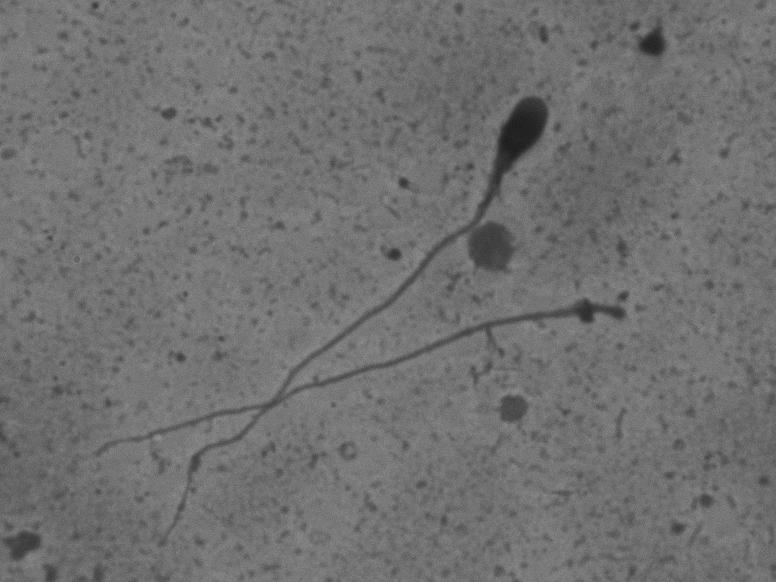Abnormal: (144, 83, 561, 553)
